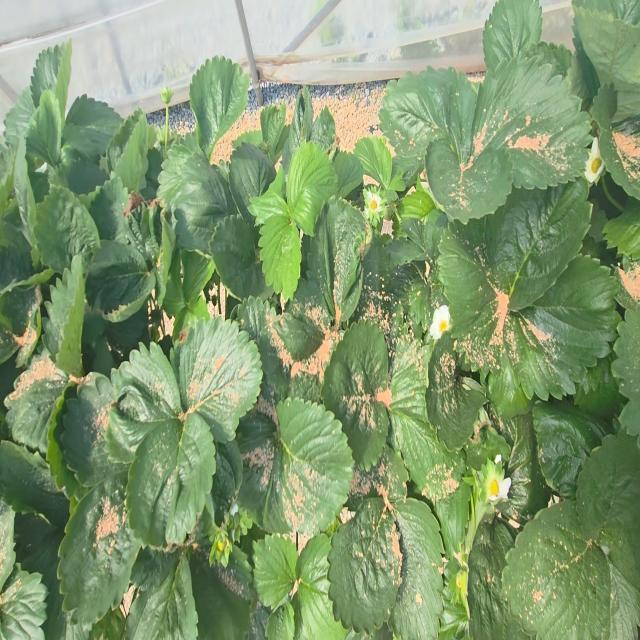Flowers: (584, 139, 604, 184), (486, 471, 511, 503), (363, 189, 383, 228), (430, 306, 450, 340)
Leaves: (503, 254, 621, 399), (473, 53, 594, 188), (503, 501, 611, 639), (483, 180, 592, 310), (264, 398, 354, 536), (126, 412, 216, 546), (58, 481, 140, 625), (438, 221, 508, 370), (576, 430, 640, 591), (179, 318, 262, 442), (321, 320, 389, 468), (389, 356, 459, 499), (328, 497, 401, 632), (380, 67, 479, 161), (157, 145, 237, 254), (468, 515, 530, 639), (389, 498, 443, 639), (308, 197, 366, 322), (426, 332, 487, 449), (60, 373, 122, 486), (426, 139, 511, 220), (533, 402, 604, 497), (4, 350, 68, 452), (190, 56, 250, 159), (106, 375, 176, 463), (126, 554, 198, 639), (0, 441, 69, 528), (34, 185, 99, 271), (296, 533, 348, 639), (236, 395, 278, 526), (210, 215, 272, 299), (86, 241, 154, 313), (241, 301, 291, 398), (286, 141, 337, 235), (275, 279, 331, 361), (119, 343, 181, 414), (483, 0, 542, 71), (62, 95, 122, 161), (258, 212, 301, 301), (612, 305, 640, 436), (229, 143, 276, 221), (43, 260, 81, 354), (0, 569, 48, 639), (253, 535, 297, 609), (26, 90, 62, 167), (89, 178, 129, 243), (249, 166, 291, 224), (0, 224, 35, 290), (602, 200, 640, 260), (354, 136, 392, 189), (30, 45, 62, 107), (4, 87, 35, 149), (181, 250, 215, 303), (173, 296, 209, 340), (265, 601, 294, 639)
Strawberries: (209, 529, 232, 567)
